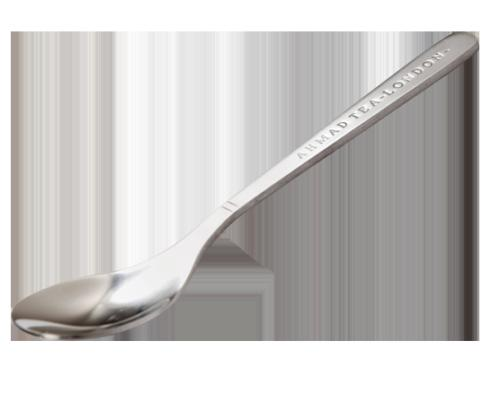Spoon: (11, 31, 479, 340)
